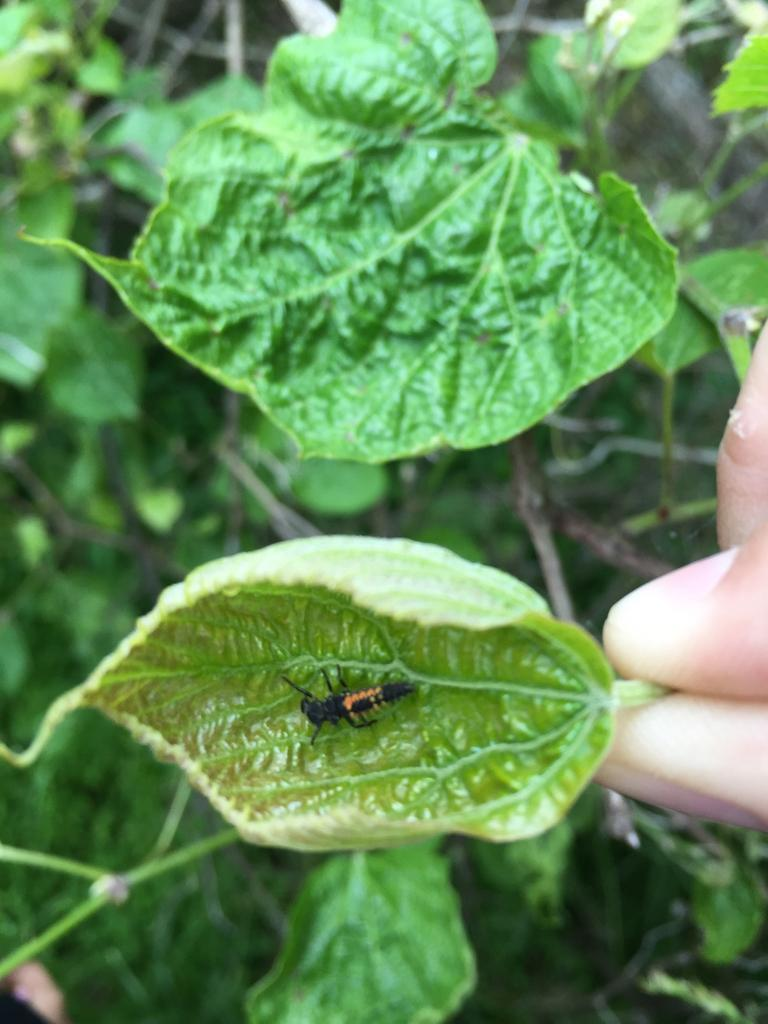ladybug: (278, 663, 426, 751)
